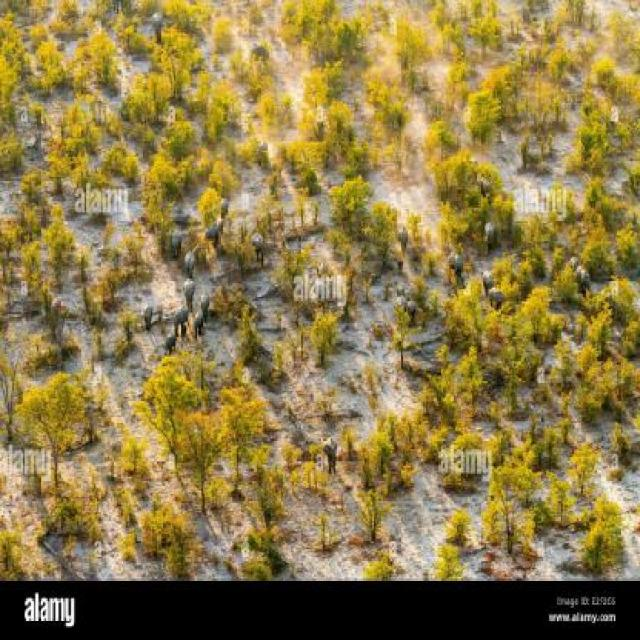elephant: (437, 246, 468, 280), (249, 228, 269, 280), (482, 274, 508, 312), (172, 246, 205, 272), (255, 134, 278, 168), (200, 214, 223, 248), (146, 8, 169, 41), (320, 437, 342, 471), (174, 269, 194, 305), (138, 295, 158, 331), (165, 301, 193, 325), (197, 283, 214, 320), (406, 294, 422, 329), (479, 272, 498, 300), (212, 188, 230, 217), (574, 270, 591, 296), (567, 240, 582, 269), (168, 225, 185, 250), (484, 218, 498, 247), (193, 311, 207, 338), (481, 172, 496, 194), (166, 328, 179, 352), (398, 221, 410, 245), (398, 292, 410, 316), (396, 254, 404, 283)
